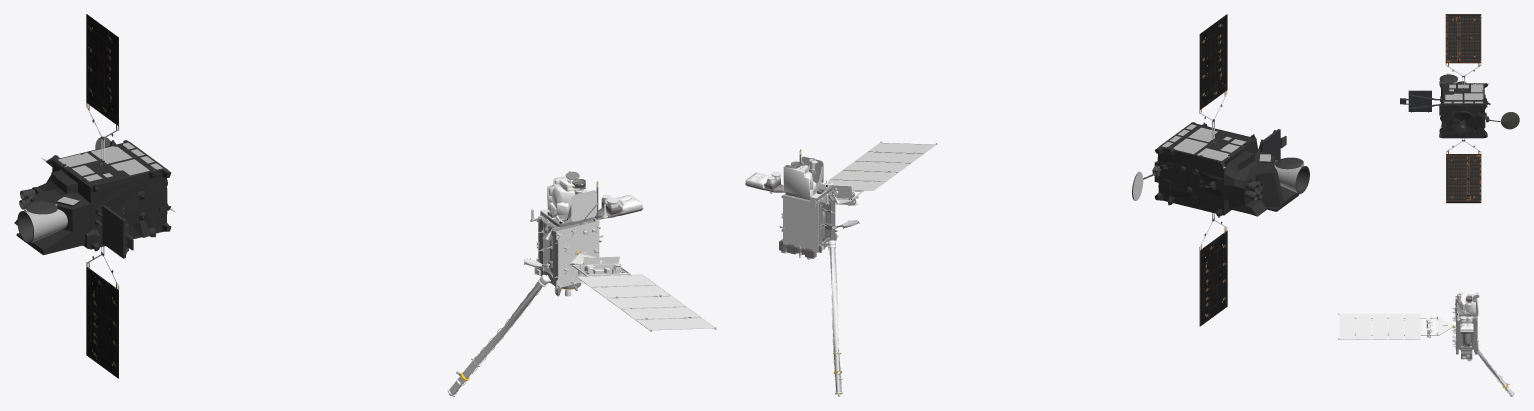
The model's file is constellation.glb.
3 renders of one model, left to right at view 1: azimuth 30°, elevation 25°; view 2: azimuth 150°, elevation 25°; view 3: azimuth 270°, elevation 25°, orthographic. The views are drawn at different scales.
Parts seen in each view (by area): view 1: MTGIlowpo, arrayPanels, BUS, ABI, Boom, Inst3, GOES_R_2011_exp:Radiator.001, SUVI_EXIS; view 2: MTGIlowpo, BUS, arrayPanels, ABI, Boom, Inst3; view 3: MTGIlowpo, arrayPanels, BUS, ABI, arrayBrace, Boom, Inst3.
Boxes of the visible parts, x1,y1,x2,y2 form: MTGIlowpo: [14, 14, 175, 378]; arrayPanels: [576, 274, 716, 331]; BUS: [530, 181, 607, 296]; ABI: [547, 171, 587, 214]; Boom: [449, 282, 542, 395]; Inst3: [594, 194, 643, 218]; GOES_R_2011_exp:Radiator.001: [567, 190, 596, 221]; SUVI_EXIS: [579, 256, 621, 284]; MTGIlowpo: [1132, 14, 1309, 326]; BUS: [779, 149, 838, 258]; arrayPanels: [823, 142, 937, 190]; ABI: [783, 161, 816, 197]; Boom: [829, 247, 842, 392]; Inst3: [745, 171, 785, 193]; MTGIlowpo: [1400, 14, 1519, 203]; arrayPanels: [1338, 313, 1420, 339]; BUS: [1452, 296, 1478, 359]; ABI: [1464, 293, 1479, 314]; arrayBrace: [1420, 317, 1452, 337]; Boom: [1477, 349, 1513, 395]; Inst3: [1460, 316, 1473, 333].
Bounding box in the file's own units: 2.28 × 1.73 × 1.03.
Materials: 21 (3 with a texture image).
